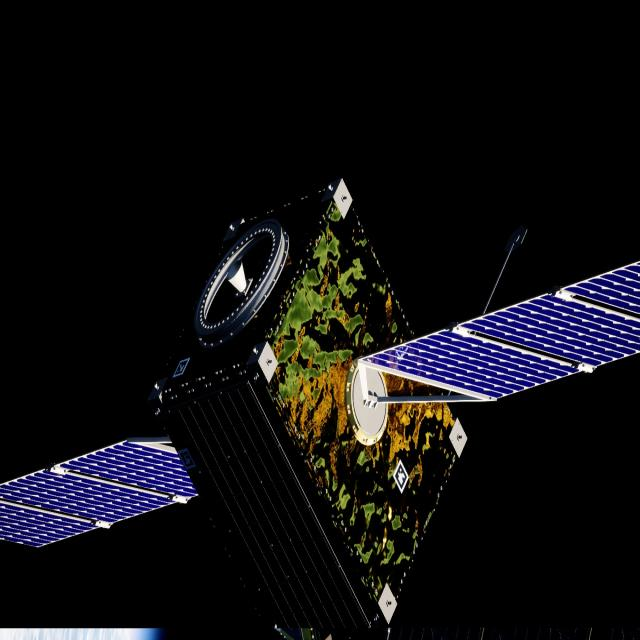satellite: (0, 180, 640, 640)
